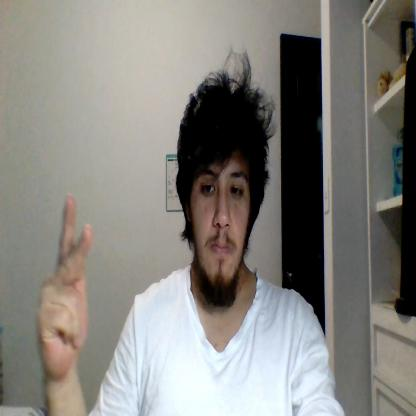P: (36, 195, 92, 379)
